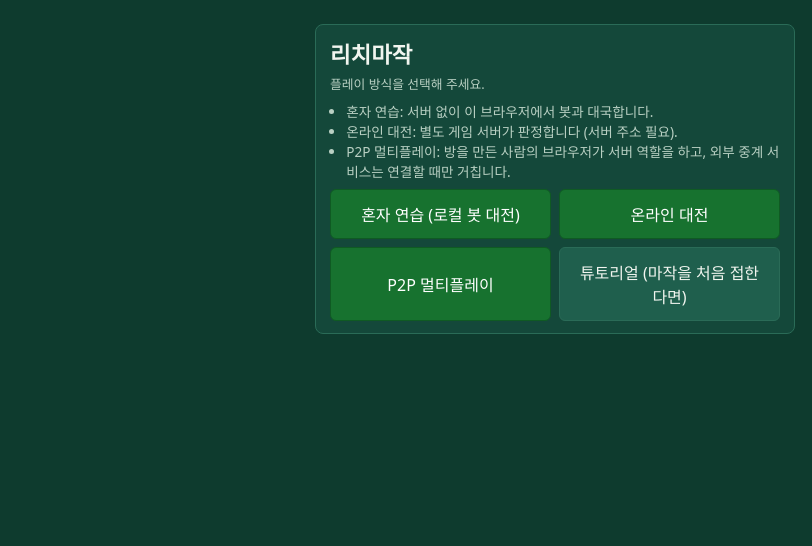
Test: P2P 모드 › 모드 선택에 P2P 버튼이 있고, 입장 폼에는 서버 주소 입력이 없다
Click the button "P2P 멀티플레이". click: {"x": 440, "y": 284}
box: [330,247,551,321]
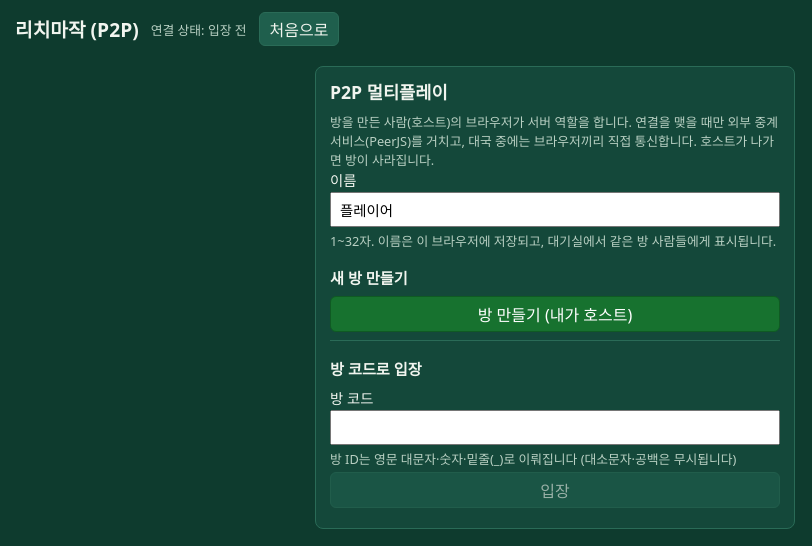
Check: the list item "서버 주소" is gone
Check: the button "방 만들기 (내가 호스트)" is shown, box [330,296,780,332]
Check: the field labelled "방 코드" is shown, box [330,410,780,445]
